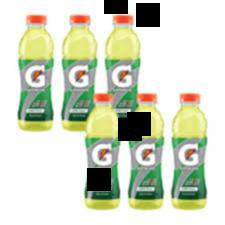gatorade_lemon: (123, 91, 167, 212), (80, 92, 124, 210), (168, 93, 211, 213)
